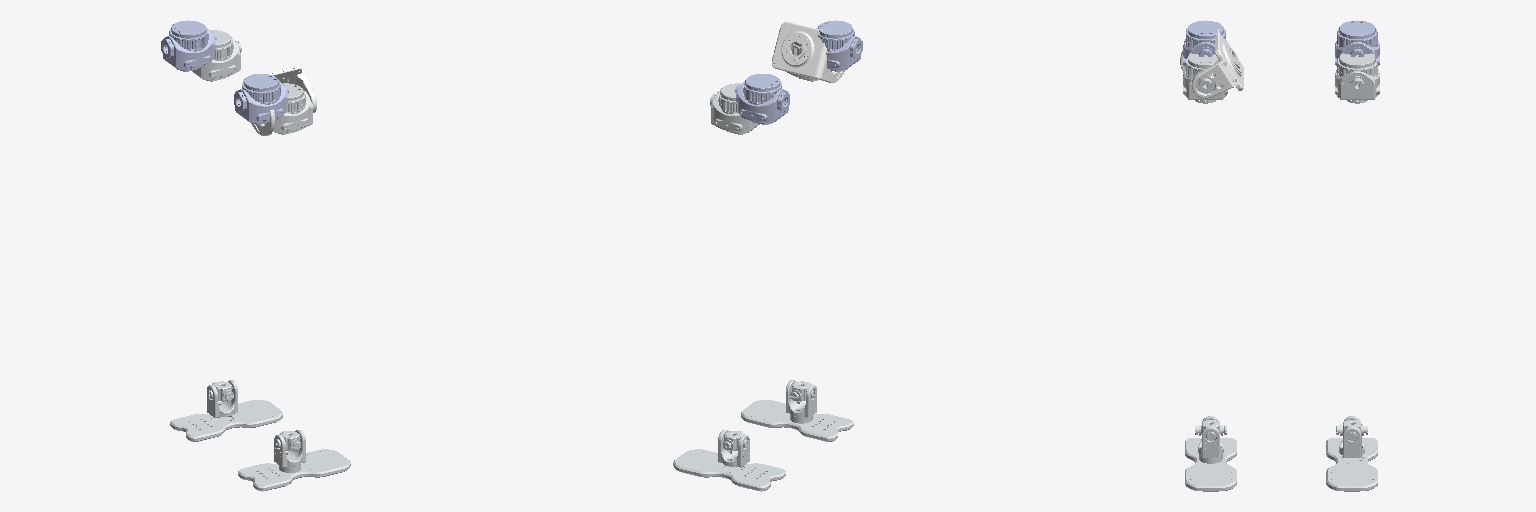
The robot description file, URDF, robot "fudan_humanoid":
<?xml version="1.0" encoding="utf-8"?>
<!-- This URDF was automatically created by SolidWorks to URDF Exporter! Originally created by [author] ([email redacted]) 
     Commit Version: 1.6.0-4-g7f85cfe  Build Version: 1.6.7995.38578
     For more information, please see http://wiki.ros.org/sw_urdf_exporter -->
<robot
  name="fudan_humanoid">
  <link
    name="base_link">
    <inertial>
      <origin
        xyz="0.00048068 0.005273 0.10033"
        rpy="0 0 0" />
      <mass
        value="27.458" />
      <inertia
        ixx="1.422586406"
        ixy="3.9567E-05"
        ixz="0.00055657"
        iyy="1.039829852"
        iyz="2.273E-06"
        izz="0.468104445" />
    </inertial>
    <visual>
      <origin
        xyz="0 0 0"
        rpy="0 0 0" />
      <geometry>
        <mesh
          filename="../meshes/base_link.STL" />
      </geometry>
      <material
        name="">
        <color
          rgba="0.89804 0.91765 0.92941 1" />
      </material>
    </visual>
    <collision>
      <origin
        xyz="0 0. 0.1"
        rpy="0 0 0" />
      <geometry>
        <box size="0.4 0.4 0.4"/>
      </geometry>
    </collision>
  </link>
  <link
    name="left_leg_pitch_link">
    <inertial>
      <origin
        xyz="-0.0633279711283421 0.109959270041658 -0.0628666636545602"
        rpy="0 0 0" />
      <mass
        value="1.53497057709751" />
      <inertia
        ixx="0.0021494307189804"
        ixy="0.000192496886676677"
        ixz="-0.000111273288399115"
        iyy="0.00161833152261723"
        iyz="-2.61155724890144E-06"
        izz="0.00161063922126039" />
    </inertial>
    <visual>
      <origin
        xyz="0 0 0"
        rpy="0 0 0" />
      <geometry>
        <mesh
          filename="../meshes/left_leg_pitch_link.STL" />
      </geometry>
      <material
        name="">
        <color
          rgba="0.898039215686275 0.917647058823529 0.929411764705882 1" />
      </material>
    </visual>
    <collision>
      <origin
        xyz="0 0 0"
        rpy="0 0 0" />
      <geometry>
        <mesh
          filename="../meshes/left_leg_pitch_link.STL" />
      </geometry>
    </collision>
  </link>
  <joint
    name="left_leg_pitch_joint"
    type="revolute">
    <origin
      xyz="0 0.026488 -0.116"
      rpy="0 0 0" />
    <parent
      link="base_link" />
    <child
      link="left_leg_pitch_link" />
    <axis
      xyz="0 -0.86603 0.5" />
    <limit
      lower="-0.88"
      upper="0.88"
      effort="250"
      velocity="9" />
  </joint>
  <link
    name="left_leg_roll_link">
    <inertial>
      <origin
        xyz="-0.0576374830111394 1.09246529306772E-05 -0.00660199416290749"
        rpy="0 0 0" />
      <mass
        value="1.1585681644247" />
      <inertia
        ixx="0.000716301532853973"
        ixy="4.0436905414181E-07"
        ixz="5.51057074899685E-07"
        iyy="0.000917084694246586"
        iyz="-2.53533904697505E-08"
        izz="0.00141285383422598" />
    </inertial>
    <visual>
      <origin
        xyz="0 0 0"
        rpy="0 0 0" />
      <geometry>
        <mesh
          filename="../meshes/left_leg_roll_link.STL" />
      </geometry>
      <material
        name="">
        <color
          rgba="0.898039215686275 0.917647058823529 0.929411764705882 1" />
      </material>
    </visual>
    <collision>
      <origin
        xyz="0 0 0"
        rpy="0 0 0" />
      <geometry>
        <mesh
          filename="../meshes/left_leg_roll_link.STL" />
      </geometry>
    </collision>
  </link>
  <joint
    name="left_leg_roll_joint"
    type="revolute">
    <origin
      xyz="0.0579 0.11951 -0.069"
      rpy="0 0 0" />
    <parent
      link="left_leg_pitch_link" />
    <child
      link="left_leg_roll_link" />
    <axis
      xyz="1 0 0" />
    <limit
      lower="-0.2"
      upper="0.5"
      effort="100"
      velocity="9" />
  </joint>
  <link
    name="left_leg_yaw_link">
    <inertial>
      <origin
        xyz="0.000436341222748633 0.00171817251440839 -0.20249386267791"
        rpy="0 0 0" />
      <mass
        value="3.6405005153043" />
      <inertia
        ixx="0.0135572208222425"
        ixy="1.17791988608873E-05"
        ixz="-3.61771100999547E-05"
        iyy="0.0179133107998344"
        iyz="0.000288738814181765"
        izz="0.00517998756956826" />
    </inertial>
    <visual>
      <origin
        xyz="0 0 0"
        rpy="0 0 0" />
      <geometry>
        <mesh
          filename="../meshes/left_leg_yaw_link.STL" />
      </geometry>
      <material
        name="">
        <color
          rgba="0.792156862745098 0.819607843137255 0.933333333333333 1" />
      </material>
    </visual>
    <collision>
      <origin
        xyz="0 0 0"
        rpy="0 0 0" />
      <geometry>
        <mesh
          filename="../meshes/left_leg_yaw_link.STL" />
      </geometry>
    </collision>
  </link>
  <joint
    name="left_leg_yaw_joint"
    type="revolute">
    <origin
      xyz="-0.0579000000000937 0 0.0351"
      rpy="0 0 0" />
    <parent
      link="left_leg_roll_link" />
    <child
      link="left_leg_yaw_link" />
    <axis
      xyz="0 0 1" />
    <limit
      lower="-1.05"
      upper="1.05"
      effort="100"
      velocity="9" />
  </joint>
  <link
    name="left_knee_link">
    <inertial>
      <origin
        xyz="0.00353788321793344 -0.0300164951413978 -0.125815568808837"
        rpy="0 0 0" />
      <mass
        value="2.73838325446566" />
      <inertia
        ixx="0.018174923476195"
        ixy="-3.72878040209613E-06"
        ixz="0.00066616907232646"
        iyy="0.0193437114000369"
        iyz="-1.85789955744121E-05"
        izz="0.00166428044085444" />
    </inertial>
    <visual>
      <origin
        xyz="0 0 0"
        rpy="0 0 0" />
      <geometry>
        <mesh
          filename="../meshes/left_knee_link.STL" />
      </geometry>
      <material
        name="">
        <color
          rgba="0.898039215686275 0.917647058823529 0.929411764705882 1" />
      </material>
    </visual>
    <collision>
      <origin
        xyz="0 0 0"
        rpy="0 0 0" />
      <geometry>
        <mesh
          filename="../meshes/left_knee_link.STL" />
      </geometry>
    </collision>
  </link>
  <joint
    name="left_knee_joint"
    type="revolute">
    <origin
      xyz="0 0.0199999999998428 -0.4151"
      rpy="0 0 0" />
    <parent
      link="left_leg_yaw_link" />
    <child
      link="left_knee_link" />
    <axis
      xyz="0 1 0" />
    <limit
      lower="-0.7"
      upper="1.5"
      effort="250"
      velocity="9" />
  </joint>
  <link
    name="left_ankle_pitch_link">
    <inertial>
      <origin
        xyz="1.14036894510727E-09 -0.0307000012063171 -2.55868104481749E-10"
        rpy="0 0 0" />
      <mass
        value="0.121110895209696" />
      <inertia
        ixx="1.51461080446447E-05"
        ixy="2.65410914440553E-14"
        ixz="-6.65795467392934E-13"
        iyy="1.51306884144897E-05"
        iyz="-6.35450561869648E-13"
        izz="1.6804291112923E-05" />
    </inertial>
    <visual>
      <origin
        xyz="0 0 0"
        rpy="0 0 0" />
      <geometry>
        <mesh
          filename="../meshes/left_ankle_pitch_link.STL" />
      </geometry>
      <material
        name="">
        <color
          rgba="0.898039215686275 0.917647058823529 0.929411764705882 1" />
      </material>
    </visual>
    <collision>
      <origin
        xyz="0 0 0"
        rpy="0 0 0" />
      <geometry>
        <mesh
          filename="../meshes/left_ankle_pitch_link.STL" />
      </geometry>
    </collision>
  </link>
  <joint
    name="left_ankle_pitch_joint"
    type="revolute">
    <origin
      xyz="0.015 0.000700000000000006 -0.37"
      rpy="0 0 0" />
    <parent
      link="left_knee_link" />
    <child
      link="left_ankle_pitch_link" />
    <axis
      xyz="0 1 0" />
    <limit
      lower="-0.7"
      upper="0.87"
      effort="100"
      velocity="9" />
  </joint>
  <link
    name="left_ankle_roll_link">
    <inertial>
      <origin
        xyz="-0.0306924763722608 0.000120781560919797 -0.0363311465682739"
        rpy="0 0 0" />
      <mass
        value="0.211279168543597" />
      <inertia
        ixx="7.02357410242491E-05"
        ixy="2.11284338285539E-08"
        ixz="1.19906929374729E-08"
        iyy="0.000106322566489"
        iyz="1.2768193770913E-07"
        izz="9.50598904100352E-05" />
    </inertial>
    <visual>
      <origin
        xyz="0 0 0"
        rpy="0 0 0" />
      <geometry>
        <mesh
          filename="../meshes/left_ankle_roll_link.STL" />
      </geometry>
      <material
        name="">
        <color
          rgba="0.898039215686275 0.917647058823529 0.929411764705882 1" />
      </material>
    </visual>
    <collision>
      <origin
        xyz="0 0 0"
        rpy="0 0 0" />
      <geometry>
        <mesh
          filename="../meshes/left_ankle_roll_link.STL" />
      </geometry>
    </collision>
  </link>
  <joint
    name="left_ankle_roll_joint"
    type="revolute">
    <origin
      xyz="0.0307 -0.0307 0"
      rpy="0 0 0" />
    <parent
      link="left_ankle_pitch_link" />
    <child
      link="left_ankle_roll_link" />
    <axis
      xyz="1 0 0" />
    <limit
      lower="-0.5"
      upper="0.5"
      effort="100"
      velocity="9" />
  </joint>
  <link
    name="L_foot">
    <inertial>
      <origin
        xyz="0.0164863837466949 -3.95609846776113E-06 0.0059825231829802"
        rpy="0 0 0" />
      <mass
        value="0.583662375025109" />
      <inertia
        ixx="0.000434284350435735"
        ixy="2.19660455458562E-07"
        ixz="1.6374756086158E-06"
        iyy="0.0025407840462935"
        iyz="1.4886130713671E-09"
        izz="0.00296169321093873" />
    </inertial>
    <visual>
      <origin
        xyz="0 0 0"
        rpy="0 0 0" />
      <geometry>
        <mesh
          filename="../meshes/L_foot.STL" />
      </geometry>
      <material
        name="">
        <color
          rgba="0.898039215686275 0.917647058823529 0.929411764705882 1" />
      </material>
    </visual>
    <collision>
      <origin
        xyz="0.07 0.0 0.0"
        rpy="0 0 0" />
      <geometry>
        <box size="0.35 0.10 0.02"/>
      </geometry>
    </collision>
  </link>
  <joint
    name="L_foot_joint"
    type="fixed">
    <origin
      xyz="-0.0307 0 -0.073"
      rpy="0 0 0" />
    <parent
      link="left_ankle_roll_link" />
    <child
      link="L_foot" />
    <axis
      xyz="0 0 0" />
  </joint>
  <link
    name="right_leg_pitch_link">
    <inertial>
      <origin
        xyz="0 0 0"
        rpy="0 0 0" />
      <mass
        value="0" />
      <inertia
        ixx="0"
        ixy="0"
        ixz="0"
        iyy="0"
        iyz="0"
        izz="0" />
    </inertial>
    <visual>
      <origin
        xyz="0 0 0"
        rpy="0 0 0" />
      <geometry>
        <mesh
          filename="../meshes/right_leg_pitch_link.STL" />
      </geometry>
      <material
        name="">
        <color
          rgba="1 1 1 1" />
      </material>
    </visual>
    <collision>
      <origin
        xyz="0 0 0"
        rpy="0 0 0" />
      <geometry>
        <mesh
          filename="../meshes/right_leg_pitch_link.STL" />
      </geometry>
    </collision>
  </link>
  <joint
    name="right_leg_pitch_joint"
    type="revolute">
    <origin
      xyz="0 -0.0264884942777566 -0.116000000000002"
      rpy="0 0 0" />
    <parent
      link="base_link" />
    <child
      link="right_leg_pitch_link" />
    <axis
      xyz="0 0.866025403784429 0.500000000000017" />
    <limit
      lower="-0.88"
      upper="0.88"
      effort="250"
      velocity="9" />
  </joint>
  <link
    name="right_leg_roll_link">
    <inertial>
      <origin
        xyz="-0.0577626960691344 -1.11706849221516E-05 -0.00660199416290749"
        rpy="0 0 0" />
      <mass
        value="1.1585681644247" />
      <inertia
        ixx="0.000716301532853974"
        ixy="4.043690541424E-07"
        ixz="8.75187431023589E-07"
        iyy="0.000917084694246587"
        iyz="2.13339841797718E-08"
        izz="0.00141285383422599" />
    </inertial>
    <visual>
      <origin
        xyz="0 0 0"
        rpy="0 0 0" />
      <geometry>
        <mesh
          filename="../meshes/right_leg_roll_link.STL" />
      </geometry>
      <material
        name="">
        <color
          rgba="0.898039215686275 0.917647058823529 0.929411764705882 1" />
      </material>
    </visual>
    <collision>
      <origin
        xyz="0 0 0"
        rpy="0 0 0" />
      <geometry>
        <mesh
          filename="../meshes/right_leg_roll_link.STL" />
      </geometry>
    </collision>
  </link>
  <joint
    name="right_leg_roll_joint"
    type="revolute">
    <origin
      xyz="0.0579 -0.119511505722243 -0.0689999999999984"
      rpy="0 0 0" />
    <parent
      link="right_leg_pitch_link" />
    <child
      link="right_leg_roll_link" />
    <axis
      xyz="1 0 0" />
    <limit
      lower="-0.2"
      upper="0.5"
      effort="100"
      velocity="9" />
  </joint>
  <link
    name="right_leg_yaw_link">
    <inertial>
      <origin
        xyz="0.000439575848113555 -0.00171822355601037 -0.202250529616245"
        rpy="0 0 0" />
      <mass
        value="3.6407780899498" />
      <inertia
        ixx="0.0135602328290618"
        ixy="-1.15539952174716E-05"
        ixz="-3.45979545093798E-05"
        iyy="0.0179162634876374"
        iyz="-0.000286925618553341"
        izz="0.00517995682858919" />
    </inertial>
    <visual>
      <origin
        xyz="0 0 0"
        rpy="0 0 0" />
      <geometry>
        <mesh
          filename="../meshes/right_leg_yaw_link.STL" />
      </geometry>
      <material
        name="">
        <color
          rgba="0.792156862745098 0.819607843137255 0.933333333333333 1" />
      </material>
    </visual>
    <collision>
      <origin
        xyz="0 0 0"
        rpy="0 0 0" />
      <geometry>
        <mesh
          filename="../meshes/right_leg_yaw_link.STL" />
      </geometry>
    </collision>
  </link>
  <joint
    name="right_leg_yaw_joint"
    type="revolute">
    <origin
      xyz="-0.0578999999999063 0 0.0351"
      rpy="0 0 0" />
    <parent
      link="right_leg_roll_link" />
    <child
      link="right_leg_yaw_link" />
    <axis
      xyz="0 0 1" />
    <limit
      lower="-1.05"
      upper="1.05"
      effort="100"
      velocity="9" />
  </joint>
  <link
    name="right_knee_link">
    <inertial>
      <origin
        xyz="0.00353753147505439 0.0300164822646906 -0.125814655758514"
        rpy="0 0 0" />
      <mass
        value="2.7383889302029" />
      <inertia
        ixx="0.0181751548429839"
        ixy="3.73772092763686E-06"
        ixz="0.000666175646062464"
        iyy="0.0193438186718627"
        iyz="1.92272393568264E-05"
        izz="0.0016641696799547" />
    </inertial>
    <visual>
      <origin
        xyz="0 0 0"
        rpy="0 0 0" />
      <geometry>
        <mesh
          filename="../meshes/right_knee_link.STL" />
      </geometry>
      <material
        name="">
        <color
          rgba="0.898039215686275 0.917647058823529 0.929411764705882 1" />
      </material>
    </visual>
    <collision>
      <origin
        xyz="0 0 0"
        rpy="0 0 0" />
      <geometry>
        <mesh
          filename="../meshes/right_knee_link.STL" />
      </geometry>
    </collision>
  </link>
  <joint
    name="right_knee_joint"
    type="revolute">
    <origin
      xyz="0 -0.0199999999998428 -0.4151"
      rpy="0 0 0" />
    <parent
      link="right_leg_yaw_link" />
    <child
      link="right_knee_link" />
    <axis
      xyz="0 1 0" />
    <limit
      lower="-0.7"
      upper="1.5"
      effort="250"
      velocity="9" />
  </joint>
  <link
    name="right_ankle_pitch_link">
    <inertial>
      <origin
        xyz="1.14036894337255E-09 0.0306999987936829 -2.55867993459447E-10"
        rpy="0 0 0" />
      <mass
        value="0.121110895209696" />
      <inertia
        ixx="1.51461080446447E-05"
        ixy="2.65410901923743E-14"
        ixz="-6.65795468213428E-13"
        iyy="1.51306884144897E-05"
        iyz="-6.35450562305363E-13"
        izz="1.6804291112923E-05" />
    </inertial>
    <visual>
      <origin
        xyz="0 0 0"
        rpy="0 0 0" />
      <geometry>
        <mesh
          filename="../meshes/right_ankle_pitch_link.STL" />
      </geometry>
      <material
        name="">
        <color
          rgba="0.898039215686275 0.917647058823529 0.929411764705882 1" />
      </material>
    </visual>
    <collision>
      <origin
        xyz="0 0 0"
        rpy="0 0 0" />
      <geometry>
        <mesh
          filename="../meshes/right_ankle_pitch_link.STL" />
      </geometry>
    </collision>
  </link>
  <joint
    name="right_ankle_pitch_joint"
    type="revolute">
    <origin
      xyz="0.015 -0.000700000000000006 -0.37"
      rpy="0 0 0" />
    <parent
      link="right_knee_link" />
    <child
      link="right_ankle_pitch_link" />
    <axis
      xyz="0 -1 0" />
    <limit
      lower="-0.7"
      upper="0.87"
      effort="100"
      velocity="9" />
  </joint>
  <link
    name="right_ankle_roll_link">
    <inertial>
      <origin
        xyz="-0.0306924763722608 0.000120781560919825 -0.0363311465682741"
        rpy="0 0 0" />
      <mass
        value="0.211279168543596" />
      <inertia
        ixx="7.02357410242489E-05"
        ixy="2.11284338285835E-08"
        ixz="1.19906929375098E-08"
        iyy="0.000106322566489"
        iyz="1.27681937709109E-07"
        izz="9.5059890410035E-05" />
    </inertial>
    <visual>
      <origin
        xyz="0 0 0"
        rpy="0 0 0" />
      <geometry>
        <mesh
          filename="../meshes/right_ankle_roll_link.STL" />
      </geometry>
      <material
        name="">
        <color
          rgba="0.898039215686275 0.917647058823529 0.929411764705882 1" />
      </material>
    </visual>
    <collision>
      <origin
        xyz="0 0 0"
        rpy="0 0 0" />
      <geometry>
        <mesh
          filename="../meshes/right_ankle_roll_link.STL" />
      </geometry>
    </collision>
  </link>
  <joint
    name="right_ankle_roll_joint"
    type="revolute">
    <origin
      xyz="0.0307 0.0307 0"
      rpy="0 0 0" />
    <parent
      link="right_ankle_pitch_link" />
    <child
      link="right_ankle_roll_link" />
    <axis
      xyz="1 0 0" />
    <limit
      lower="-0.5"
      upper="0.5"
      effort="100"
      velocity="9" />
  </joint>
  <link
    name="R_foot">
    <inertial>
      <origin
        xyz="0.0164863837725345 -3.95610131773139E-06 0.00598252318298043"
        rpy="0 0 0" />
      <mass
        value="0.583662375025108" />
      <inertia
        ixx="0.000434284350435733"
        ixy="2.19660455456337E-07"
        ixz="1.63747560861532E-06"
        iyy="0.0025407840462935"
        iyz="1.48861307141417E-09"
        izz="0.00296169321093872" />
    </inertial>
    <visual>
      <origin
        xyz="0 0 0"
        rpy="0 0 0" />
      <geometry>
        <mesh
          filename="../meshes/R_foot.STL" />
      </geometry>
      <material
        name="">
        <color
          rgba="0.898039215686275 0.917647058823529 0.929411764705882 1" />
      </material>
    </visual>
    <collision>
      <origin
        xyz="0.07 0.0 0.0"
        rpy="0 0 0" />
      <geometry>
        <box size="0.35 0.10 0.02"/>
      </geometry>
    </collision>
  </link>
  <joint
    name="R_foot_joint"
    type="fixed">
    <origin
      xyz="-0.0307 0 -0.0730000000000002"
      rpy="0 0 0" />
    <parent
      link="right_ankle_roll_link" />
    <child
      link="R_foot" />
    <axis
      xyz="0 0 0" />
  </joint>
</robot>

--- Render facts (derived) ---
3 views of the same robot in one strip: view 1: azimuth 30°, elevation 25°; view 2: azimuth 150°, elevation 25°; view 3: azimuth 270°, elevation 25° (orthographic).
Model fudan_humanoid with 15 links and 14 joints (12 revolute, 2 fixed), rooted at base_link, posed all joints at 0.
Links seen in each view (by area): view 1: L_foot, R_foot, left_leg_yaw_link, right_leg_yaw_link, left_leg_roll_link, right_leg_roll_link, right_leg_pitch_link, right_ankle_roll_link, left_ankle_roll_link; view 2: right_leg_pitch_link, L_foot, left_leg_yaw_link, R_foot, right_leg_yaw_link, left_leg_roll_link, right_ankle_roll_link, left_ankle_roll_link; view 3: L_foot, R_foot, left_leg_roll_link, right_leg_pitch_link, left_leg_yaw_link, right_leg_yaw_link, right_leg_roll_link, right_ankle_roll_link, left_ankle_roll_link.
Boxes of the visible links, left/top/right/bottom form: L_foot: left=170, top=400, right=282, bottom=441; R_foot: left=238, top=449, right=350, bottom=491; left_leg_yaw_link: left=161, top=20, right=216, bottom=71; right_leg_yaw_link: left=234, top=74, right=288, bottom=124; left_leg_roll_link: left=192, top=30, right=241, bottom=81; right_leg_roll_link: left=264, top=83, right=312, bottom=134; right_leg_pitch_link: left=251, top=66, right=316, bottom=135; right_ankle_roll_link: left=274, top=430, right=305, bottom=472; left_ankle_roll_link: left=207, top=380, right=237, bottom=417; right_leg_pitch_link: left=772, top=22, right=844, bottom=82; L_foot: left=673, top=449, right=785, bottom=491; left_leg_yaw_link: left=735, top=74, right=789, bottom=124; R_foot: left=741, top=400, right=853, bottom=441; right_leg_yaw_link: left=816, top=20, right=862, bottom=71; left_leg_roll_link: left=710, top=83, right=759, bottom=134; right_ankle_roll_link: left=786, top=380, right=816, bottom=423; left_ankle_roll_link: left=718, top=430, right=749, bottom=467; L_foot: left=1326, top=438, right=1377, bottom=491; R_foot: left=1185, top=438, right=1236, bottom=491; left_leg_roll_link: left=1335, top=53, right=1379, bottom=103; right_leg_pitch_link: left=1180, top=29, right=1243, bottom=98; left_leg_yaw_link: left=1335, top=20, right=1379, bottom=65; right_leg_yaw_link: left=1183, top=20, right=1225, bottom=66; right_leg_roll_link: left=1183, top=53, right=1227, bottom=103; right_ankle_roll_link: left=1198, top=416, right=1223, bottom=463; left_ankle_roll_link: left=1339, top=416, right=1364, bottom=457.
Size in the robot's own frame: 0.2521 by 0.384 by 0.8933 metres.
Meshes: 15 distinct files referenced, 11 mesh visuals loaded (11 binary STL); not drawn: 4 (reference not matched to a file when rendering).